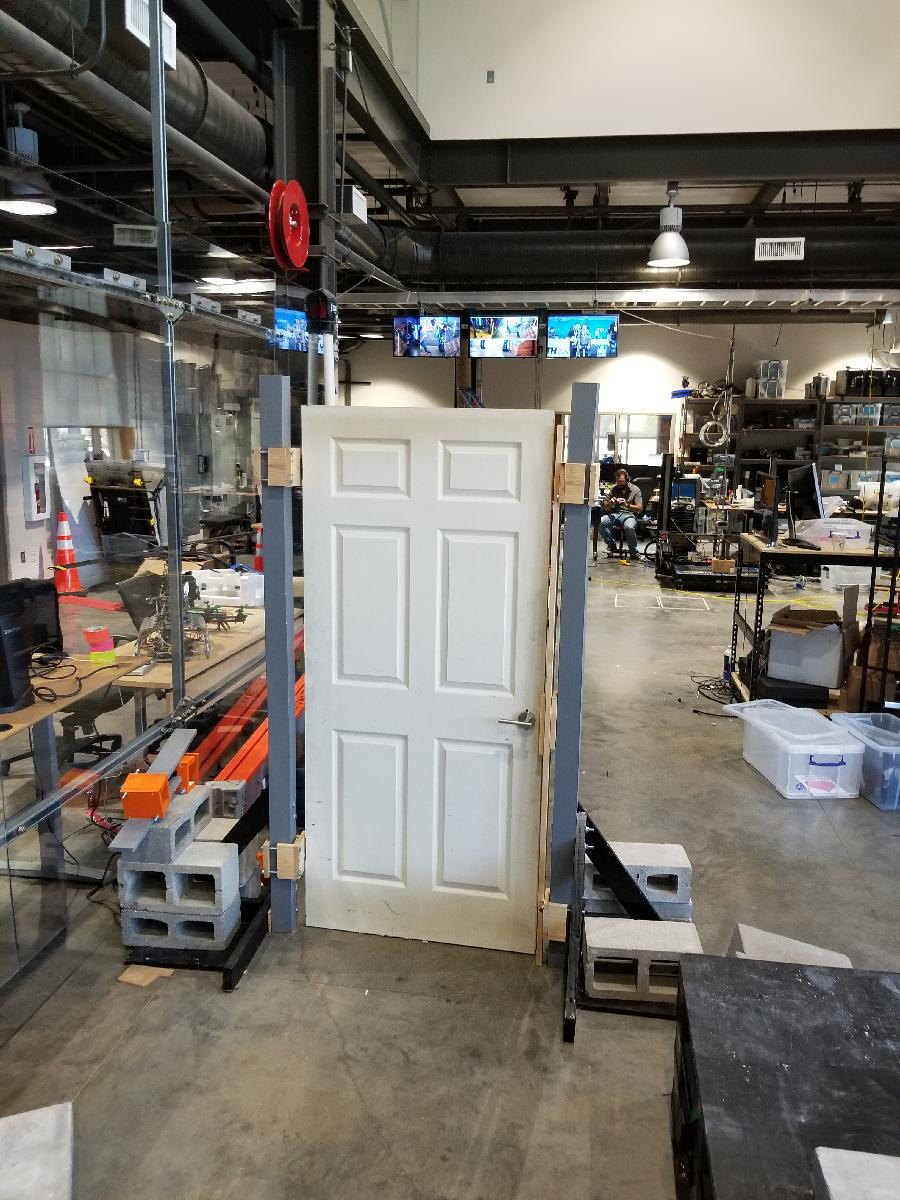door: (295, 400, 561, 962)
doorHandle: (495, 707, 541, 740)
